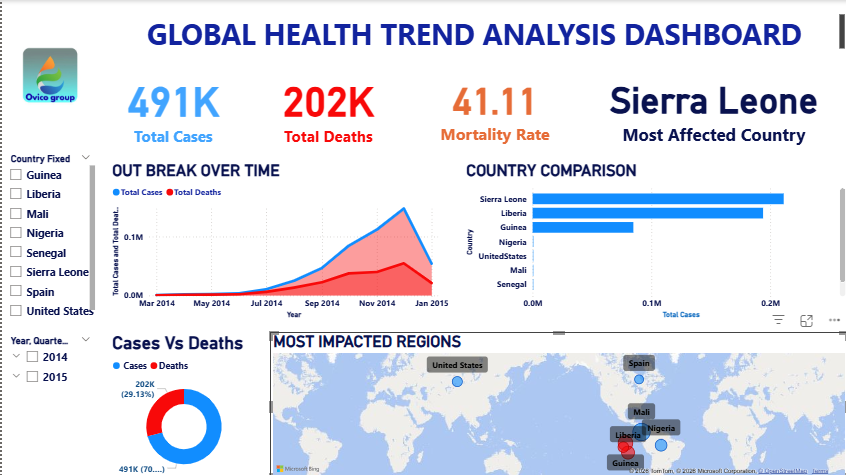

What the dashboard file says about the page in this screenshot:
{"tool":"powerbi","page":{"name":"Page 1","canvas":[1280,720],"ordinal":0},"visuals":[{"type":"card","fields":{"Values":["country_timeseries_raw_dataset.Total Cases"]},"box":[160,96,192,128],"z":0},{"type":"card","fields":{"Values":["country_timeseries_raw_dataset.Mortality Rate"]},"box":[624,96,224,128],"z":1000},{"type":"card","fields":{"Values":["country_timeseries_raw_dataset.Most Affected Country"]},"box":[864,96,400,128],"z":2000},{"type":"card","fields":{"Values":["country_timeseries_raw_dataset.Total Deaths"]},"box":[368,96,240,128],"z":3000},{"type":"lineChart","title":"OUT BREAK OVER TIME","fields":{"Category":["country_timeseries_raw_dataset.Date.Variation.Date Hierarchy.Year","country_timeseries_raw_dataset.Date.Variation.Date Hierarchy.Quarter","country_timeseries_raw_dataset.Date.Variation.Date Hierarchy.Month"],"Y":["country_timeseries_raw_dataset.Total Cases","country_timeseries_raw_dataset.Total Deaths"]},"box":[160,240,512,240],"z":4000},{"type":"map","title":"MOST IMPACTED REGIONS","fields":{"Category":["country_timeseries_raw_dataset.Country Fixed"],"Size":["country_timeseries_raw_dataset.Mortality Rate"]},"box":[400,496,864,224],"z":5000},{"type":"barChart","title":"COUNTRY COMPARISON","fields":{"Category":["country_timeseries_raw_dataset.Country"],"Y":["country_timeseries_raw_dataset.Total Cases"]},"box":[688,240,576,240],"z":6000},{"type":"donutChart","title":" Cases Vs Deaths","fields":{"Y":["Sum(country_timeseries_raw_dataset.Cases)","Sum(country_timeseries_raw_dataset.Deaths)"]},"box":[160,496,224,224],"z":7000},{"type":"slicer","fields":{"Values":["country_timeseries_raw_dataset.Country Fixed"]},"box":[0,224,144,256],"z":8000},{"type":"slicer","fields":{"Values":["country_timeseries_raw_dataset.Date.Variation.Date Hierarchy.Year","country_timeseries_raw_dataset.Date.Variation.Date Hierarchy.Quarter","country_timeseries_raw_dataset.Date.Variation.Date Hierarchy.Month"]},"box":[0,496,144,224],"z":9000},{"type":"textbox","box":[160,16,1104,64],"z":10000},{"type":"image","box":[0,16,144,192],"z":11000}]}

Visuals, with their boxes on the page's 1280x720 design canvas (x1, y1, x2, y2). These are canvas units, not pixel positions in the 846x475 screenshot, which may show the page scaled, cropped or inside an application window:
card - country_timeseries_raw_dataset.Total Cases: left=160, top=96, right=352, bottom=224
card - country_timeseries_raw_dataset.Mortality Rate: left=624, top=96, right=848, bottom=224
card - country_timeseries_raw_dataset.Most Affected Country: left=864, top=96, right=1264, bottom=224
card - country_timeseries_raw_dataset.Total Deaths: left=368, top=96, right=608, bottom=224
"OUT BREAK OVER TIME" lineChart: left=160, top=240, right=672, bottom=480
"MOST IMPACTED REGIONS" map: left=400, top=496, right=1264, bottom=720
"COUNTRY COMPARISON" barChart: left=688, top=240, right=1264, bottom=480
" Cases Vs Deaths" donutChart: left=160, top=496, right=384, bottom=720
slicer - country_timeseries_raw_dataset.Country Fixed: left=0, top=224, right=144, bottom=480
slicer - country_timeseries_raw_dataset.Date.Variation.Date Hierarchy.Year x country_timeseries_raw_dataset.Date.Variation.Date Hierarchy.Quarter: left=0, top=496, right=144, bottom=720
textbox: left=160, top=16, right=1264, bottom=80
image: left=0, top=16, right=144, bottom=208
